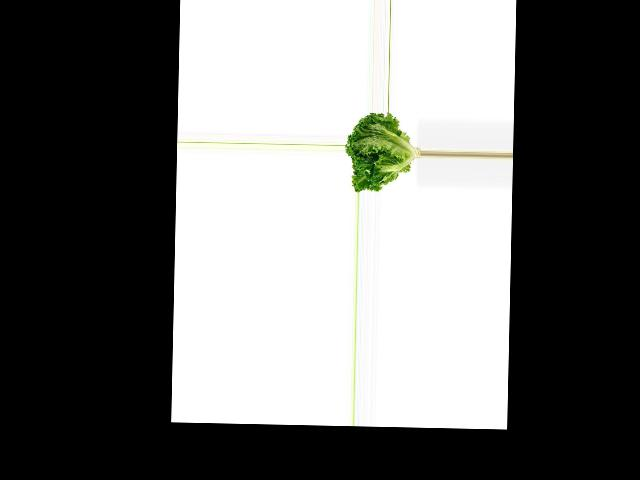lettuce: (345, 111, 421, 192)
